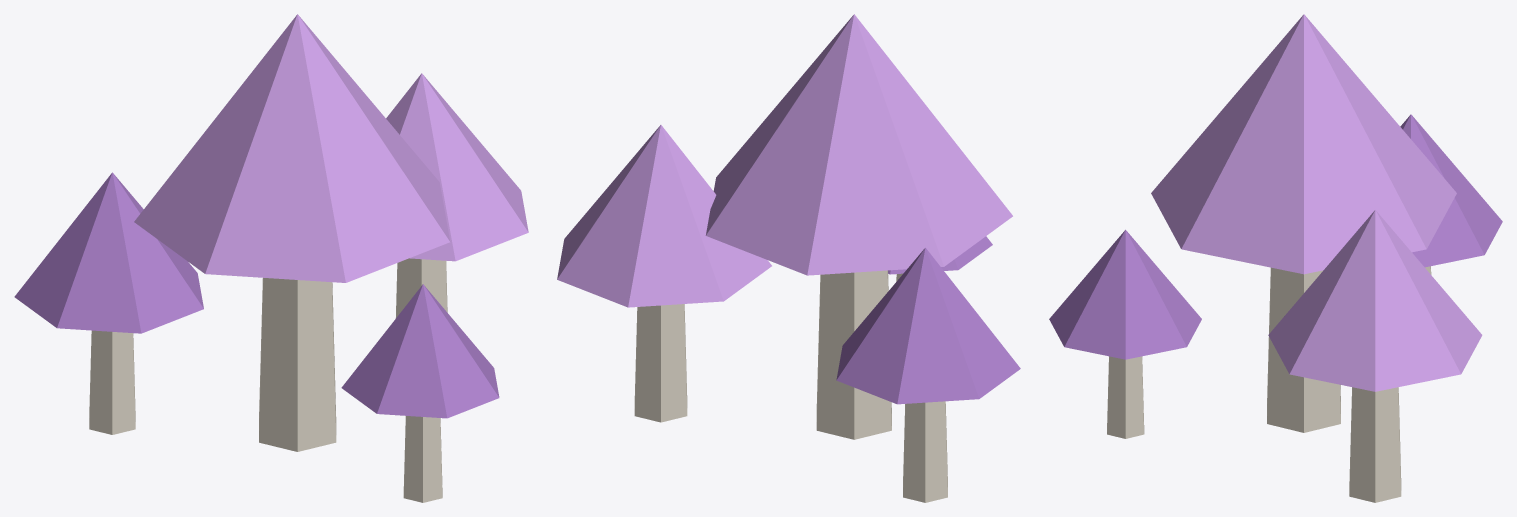
The model's file is mushrooms.glb.
3 views of the same model, side by side, from view 1: azimuth 30°, elevation 25°; view 2: azimuth 150°, elevation 25°; view 3: azimuth 270°, elevation 25° (orthographic). The views are drawn at different scales.
Parts seen in each view (by area): view 1: mushrooms-mush, mushrooms-mushd, mushrooms-stem; view 2: mushrooms-mush, mushrooms-stem, mushrooms-mushd; view 3: mushrooms-mush, mushrooms-mushd, mushrooms-stem.
Boxes of the visible parts, <box> form: mushrooms-mush: <box>134,14,528,282</box>; mushrooms-mushd: <box>14,172,499,418</box>; mushrooms-stem: <box>89,258,447,502</box>; mushrooms-mush: <box>557,14,1012,307</box>; mushrooms-stem: <box>634,270,947,502</box>; mushrooms-mushd: <box>836,236,1020,404</box>; mushrooms-mush: <box>1151,14,1482,391</box>; mushrooms-mushd: <box>1049,114,1502,359</box>; mushrooms-stem: <box>1107,266,1431,502</box>.
Bounding box in the file's own units: 0.7229 × 0.62 × 0.6359.
